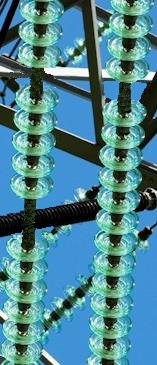gap: (5, 172, 53, 262), (12, 40, 63, 114), (101, 56, 148, 126)
